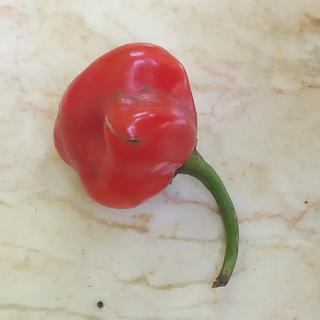striped: (103, 108, 154, 147)
